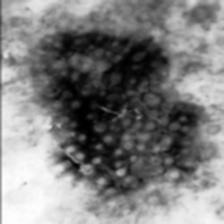Potentially Malignant Skin Tumors: (34, 32, 199, 196)
